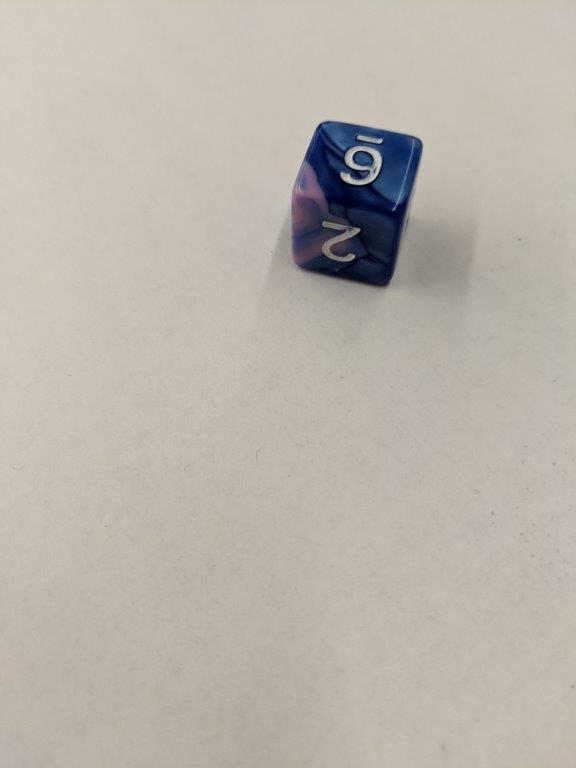d6-6: (289, 117, 423, 287)
